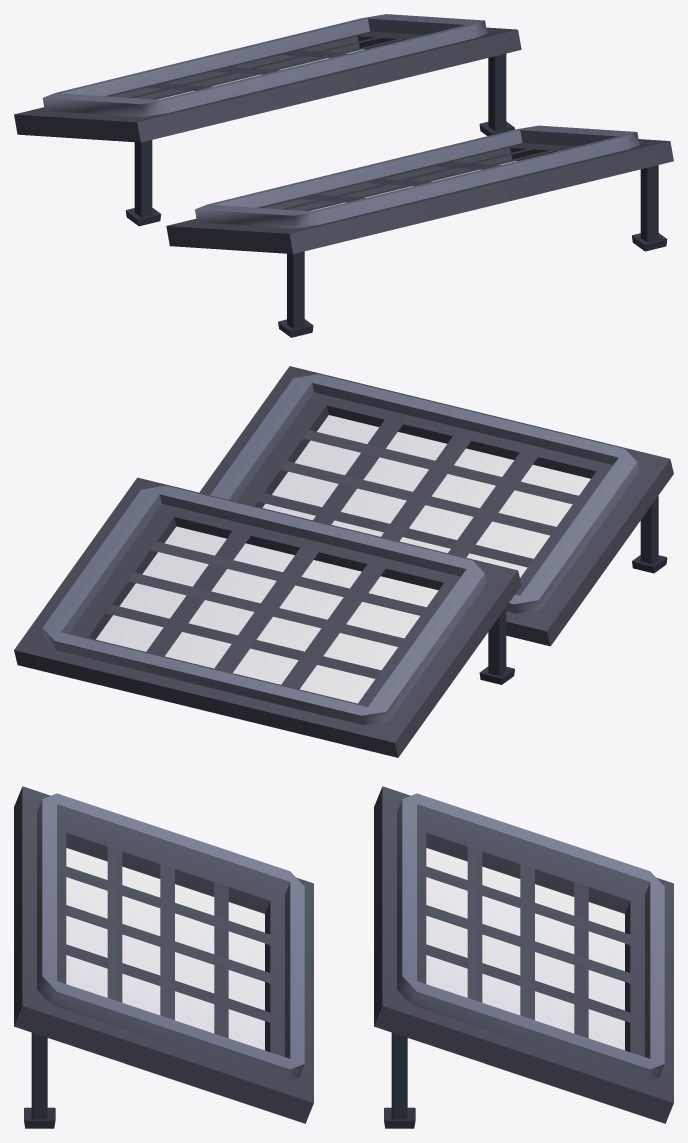
File: wind_power.glb
3 views of the same model, one above another, from view 1: azimuth 30°, elevation 25°; view 2: azimuth 150°, elevation 25°; view 3: azimuth 270°, elevation 25° (orthographic). The views are drawn at different scales.
Visible parts, largest first — view 1: 立方体; view 2: 立方体; view 3: 立方体.
Boxes of the visible parts, x1,y1,x2,y2 form: 立方体: (14,14,673,337); 立方体: (14,366,673,757); 立方体: (14,786,673,1128).
Size of the model in its own units: 0.669 by 0.189 by 0.8498.
Materials: 2 (1 with a texture image).
